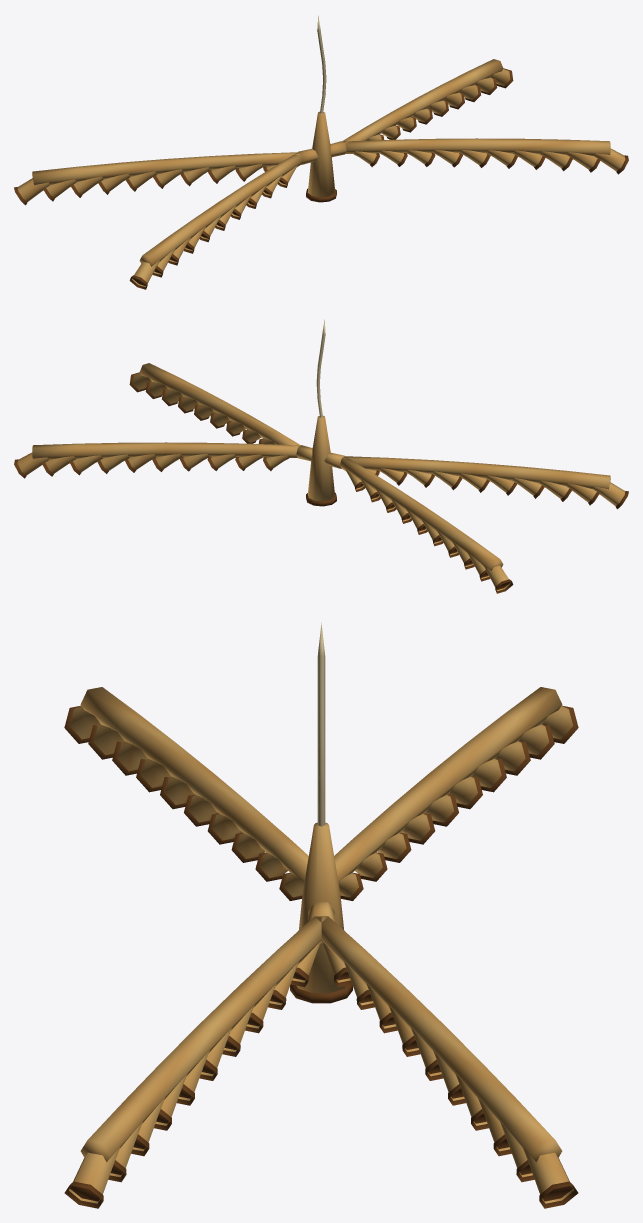
The model's file is TetragraptusApproximatus.fbx.
The picture shows the model from 3 angles, top to bottom: view 1: azimuth 30°, elevation 25°; view 2: azimuth 150°, elevation 25°; view 3: azimuth 270°, elevation 25°; orthographic projection. The views are drawn at different scales.
Visible parts, largest first — view 1: TetragraptusApproximatus; view 2: TetragraptusApproximatus; view 3: TetragraptusApproximatus.
Part boxes in pixels (x1,y1,x2,y2): TetragraptusApproximatus: (14, 15, 628, 289); TetragraptusApproximatus: (14, 319, 628, 593); TetragraptusApproximatus: (64, 622, 578, 1208).
Bounding box in the file's own units: 1.82 × 0.64 × 0.817.
